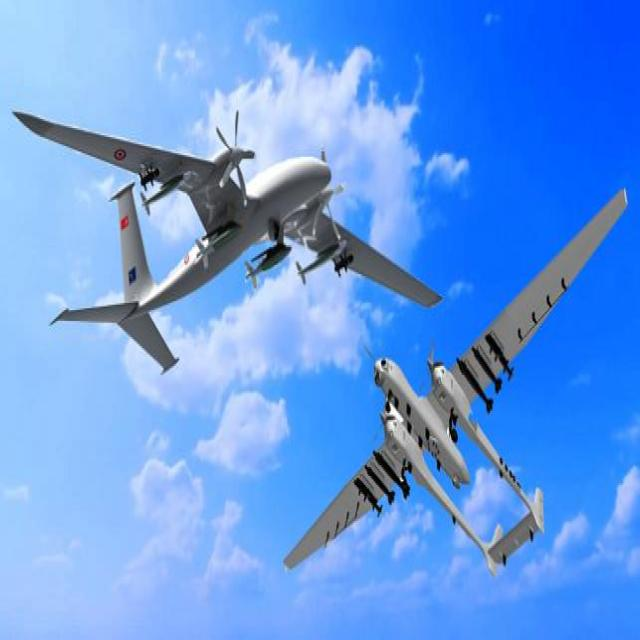iha: (275, 184, 624, 580), (10, 106, 443, 377)
